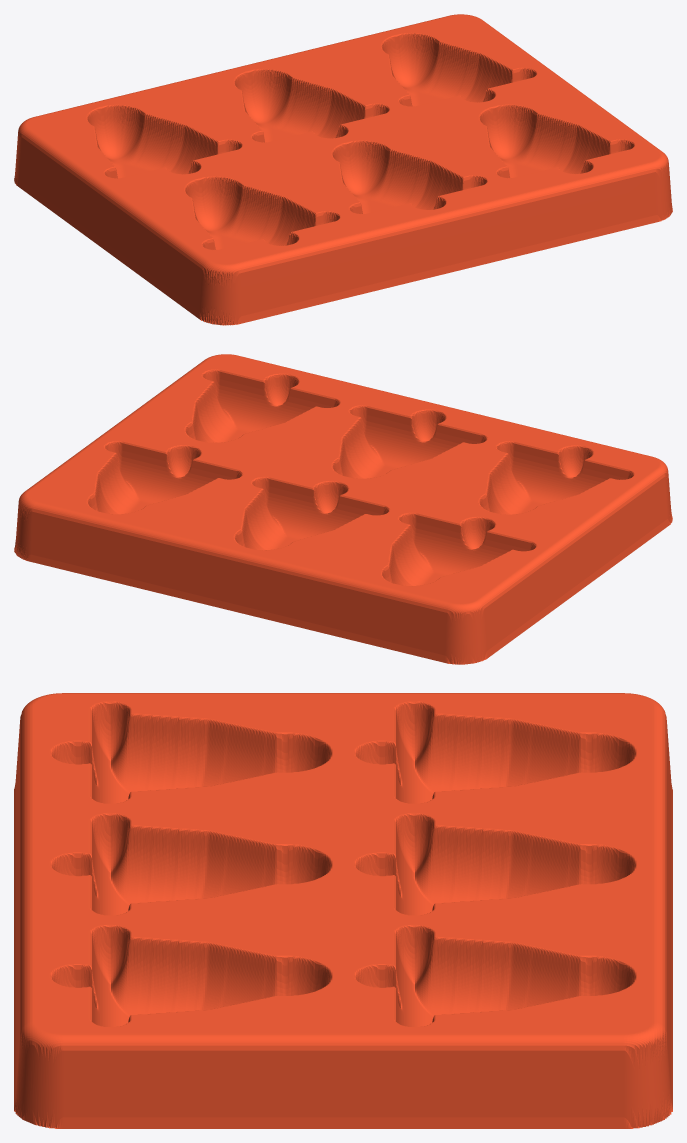
File: mold.glb
3 views of the same model, one above another, from view 1: azimuth 30°, elevation 25°; view 2: azimuth 150°, elevation 25°; view 3: azimuth 270°, elevation 25° (orthographic). The views are drawn at different scales.
Parts seen in each view (by area): view 1: geometry_0; view 2: geometry_0; view 3: geometry_0.
Part boxes in pixels (bbox=[...]): geometry_0: bbox=[14, 14, 672, 325]; geometry_0: bbox=[14, 354, 672, 664]; geometry_0: bbox=[14, 693, 672, 1128].
Bounding box in the file's own units: 0.1551 × 0.0175 × 0.1211.
